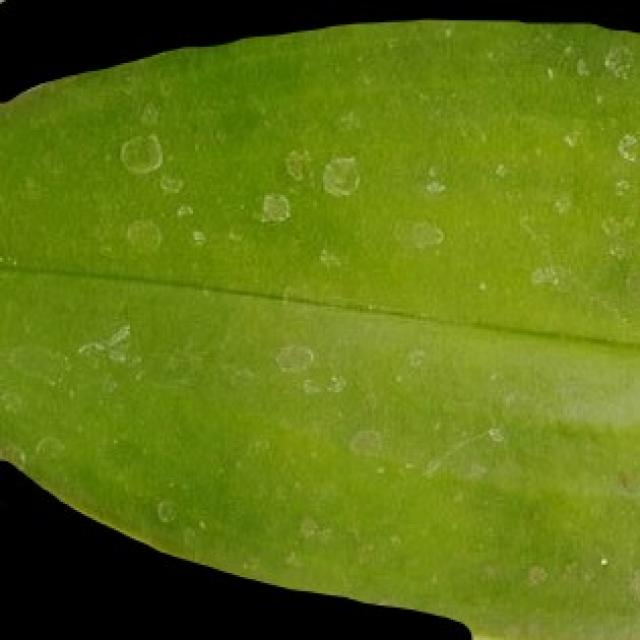mite: (112, 120, 368, 254), (116, 130, 165, 175), (319, 152, 360, 197), (122, 215, 163, 254), (146, 490, 183, 530), (256, 189, 291, 223), (614, 128, 638, 165), (152, 496, 179, 524), (591, 549, 614, 571), (597, 553, 610, 567)
spots: (0, 16, 638, 638)
